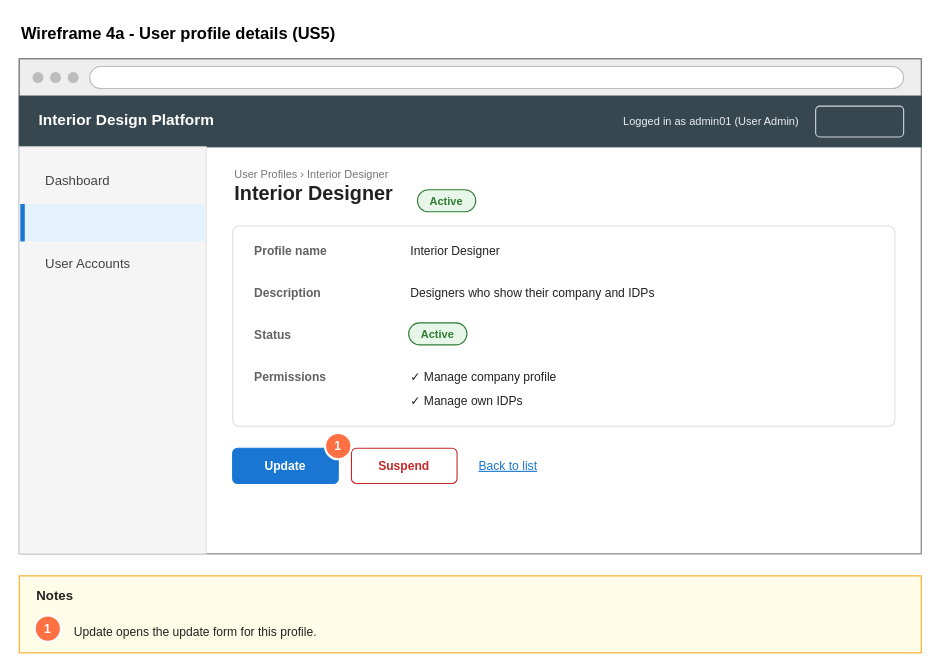
Image size: 941x672. Some labels were removed from this diagram. Each missing label, with the centre of its shape:
"localhost:8080/admin/profiles/2" goes at point (496, 77).
"Log out" goes at point (859, 121).
"User Profiles" goes at point (112, 222).
